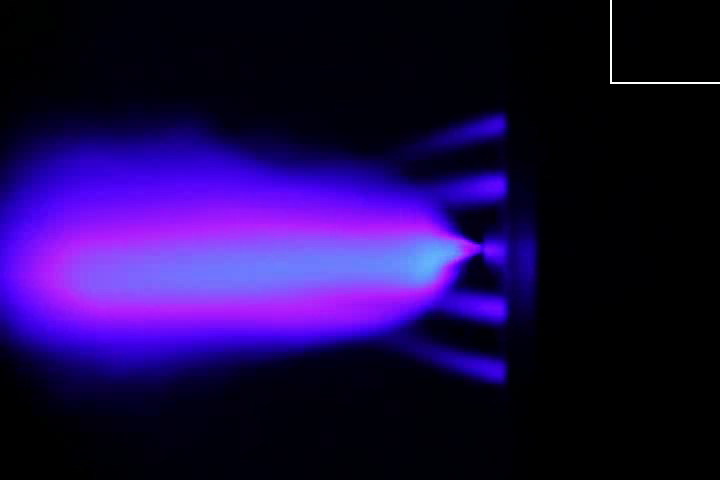burner cap: (482, 231, 510, 270)
pilot flame: (387, 338, 505, 384), (390, 113, 505, 154), (418, 173, 505, 207), (428, 291, 507, 325)
stable: (24, 198, 479, 312)
